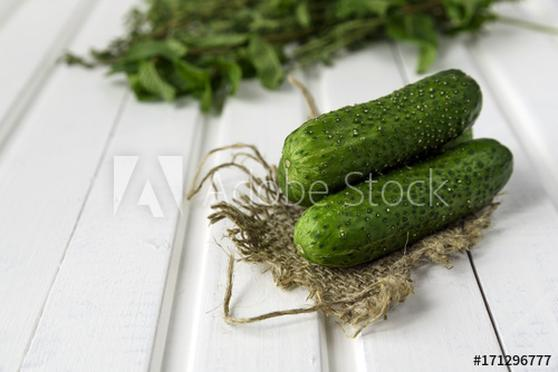cucumber: (286, 152, 517, 262), (271, 76, 492, 171)
